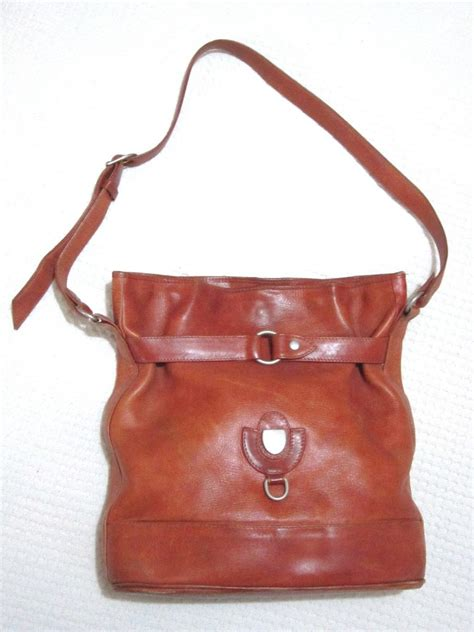cuero: (13, 38, 447, 598)
